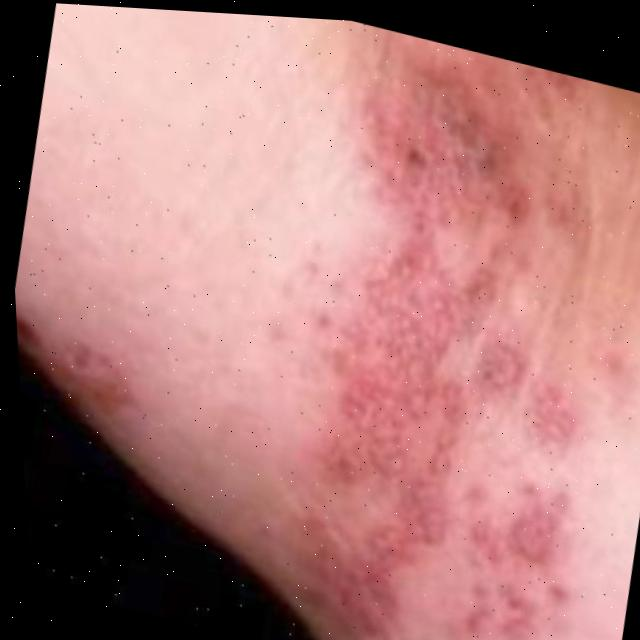Shingles: (239, 14, 640, 640), (30, 331, 156, 424)
